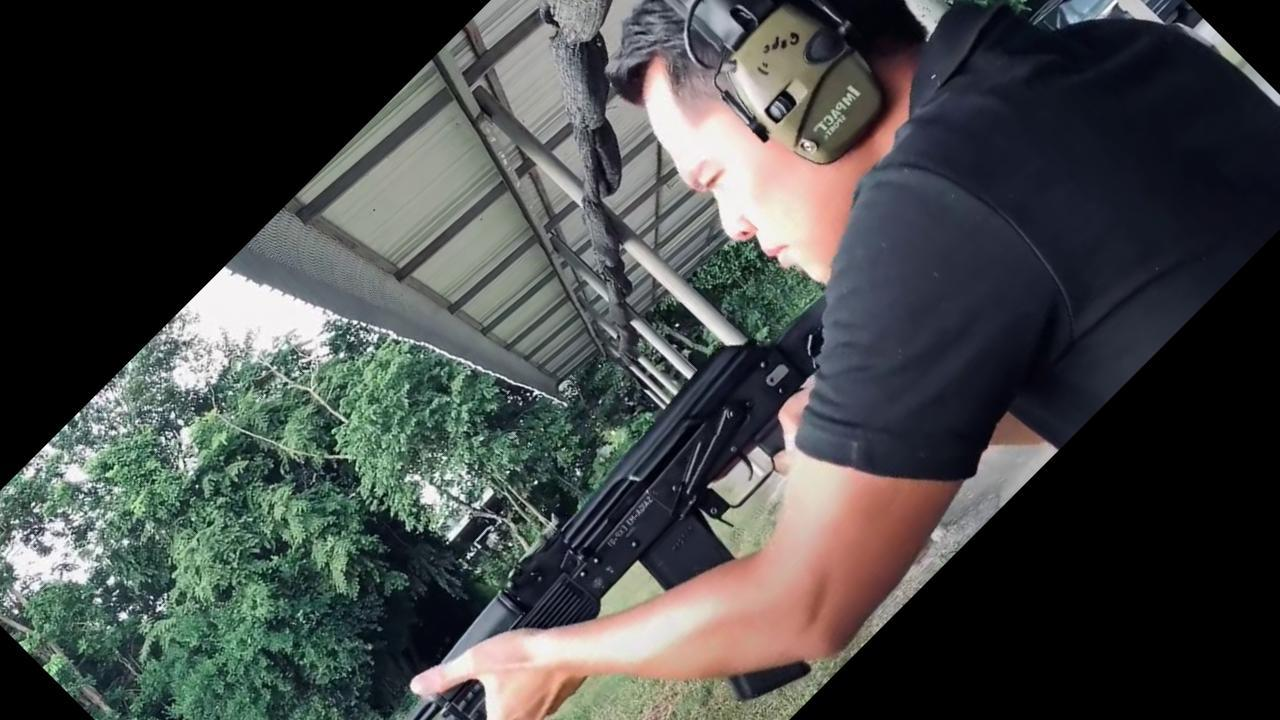larga: (408, 294, 828, 720)
